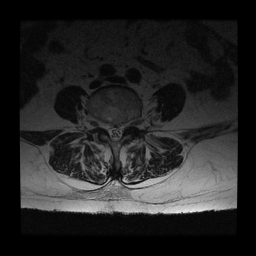CCS_normal: (112, 121, 118, 145)
LFS_stenosis: (125, 117, 130, 136)
LLS_normal: (118, 121, 124, 140)
RFS_normal: (100, 117, 107, 136)
RLS_normal: (107, 119, 112, 141)
